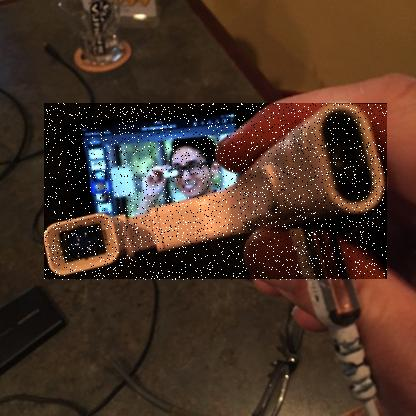Camera: (45, 105, 389, 283)
